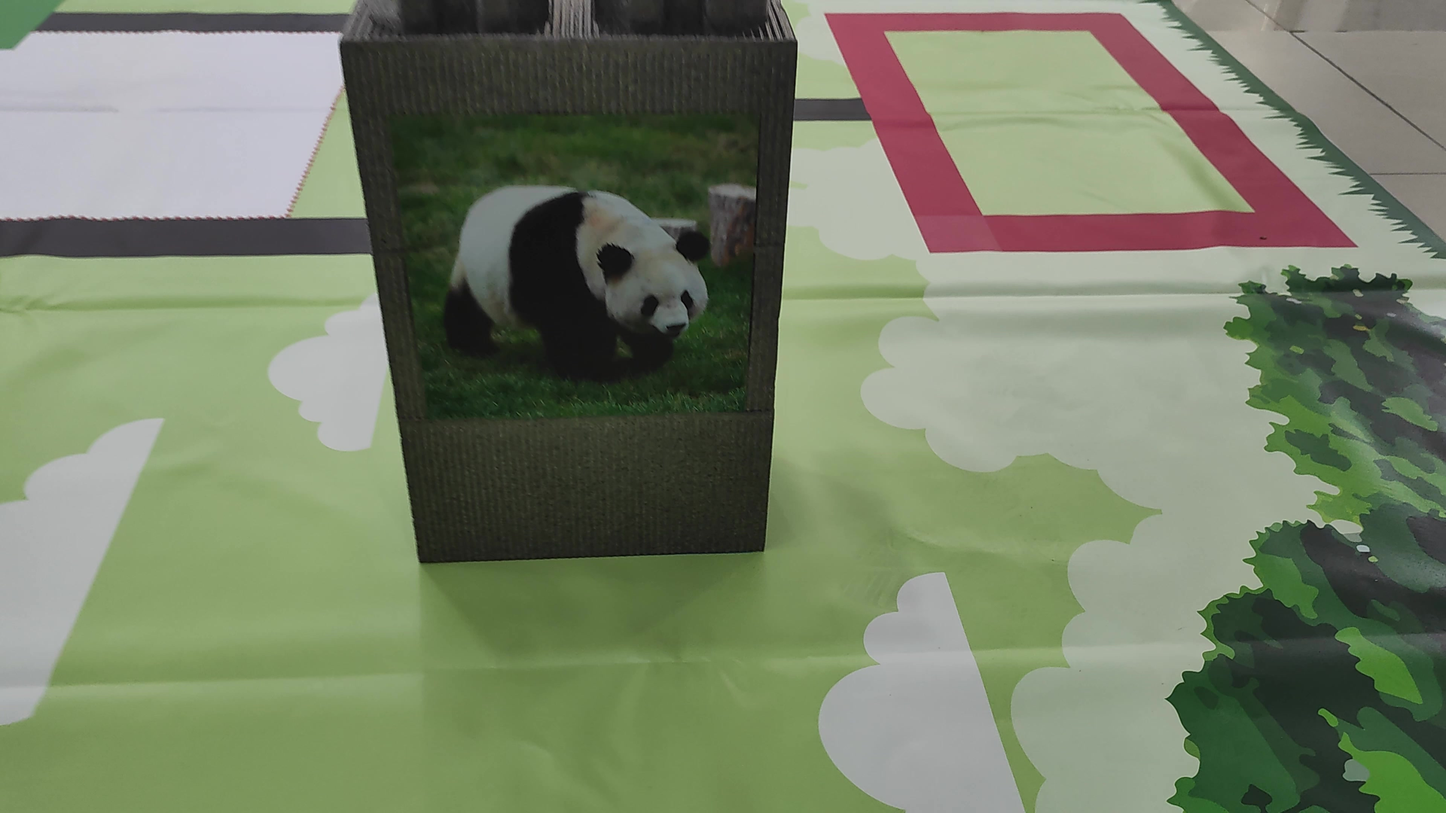panda: (401, 148, 727, 372)
